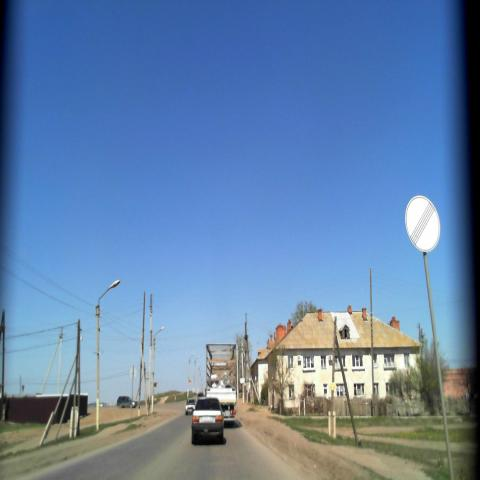3_31: (404, 194, 442, 255)
